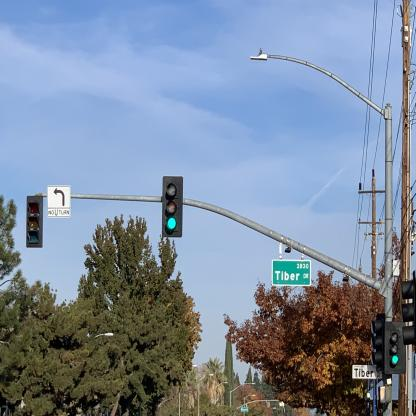green: (381, 314, 409, 380), (162, 176, 183, 237)
